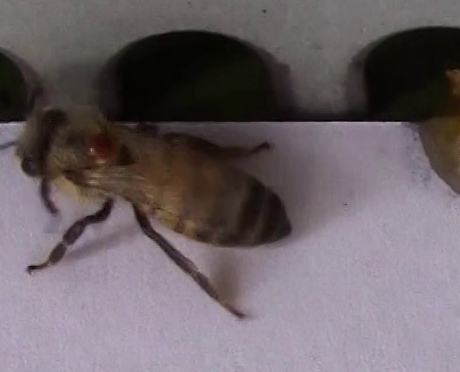Varroa destructor: (74, 123, 125, 170)
